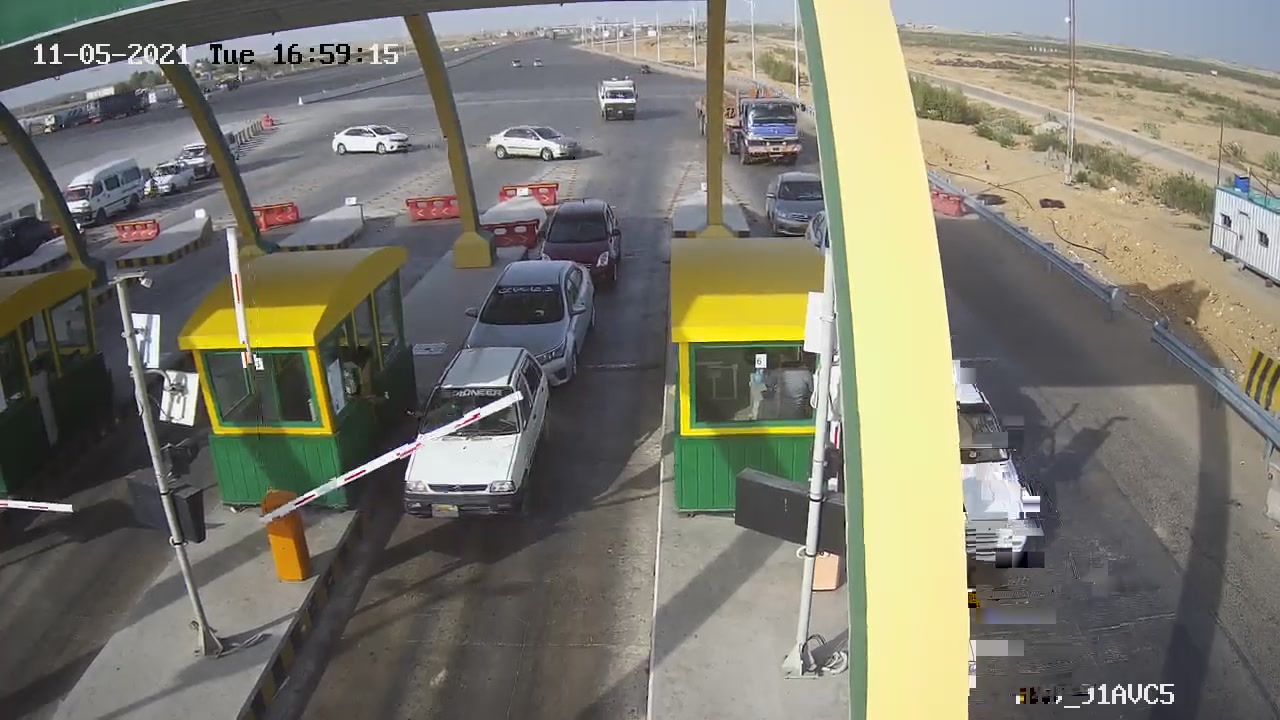F1: (392, 332, 566, 538), (452, 246, 618, 395), (520, 186, 636, 303)
